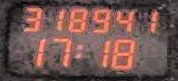1: (99, 39, 109, 67), (34, 38, 44, 66), (148, 11, 157, 32), (55, 8, 63, 31)
3: (21, 7, 42, 32)
4: (115, 10, 134, 31)
7: (50, 37, 71, 67)
8: (109, 38, 135, 68), (66, 8, 87, 32)
9: (91, 8, 109, 33)
X: (73, 43, 81, 58)
